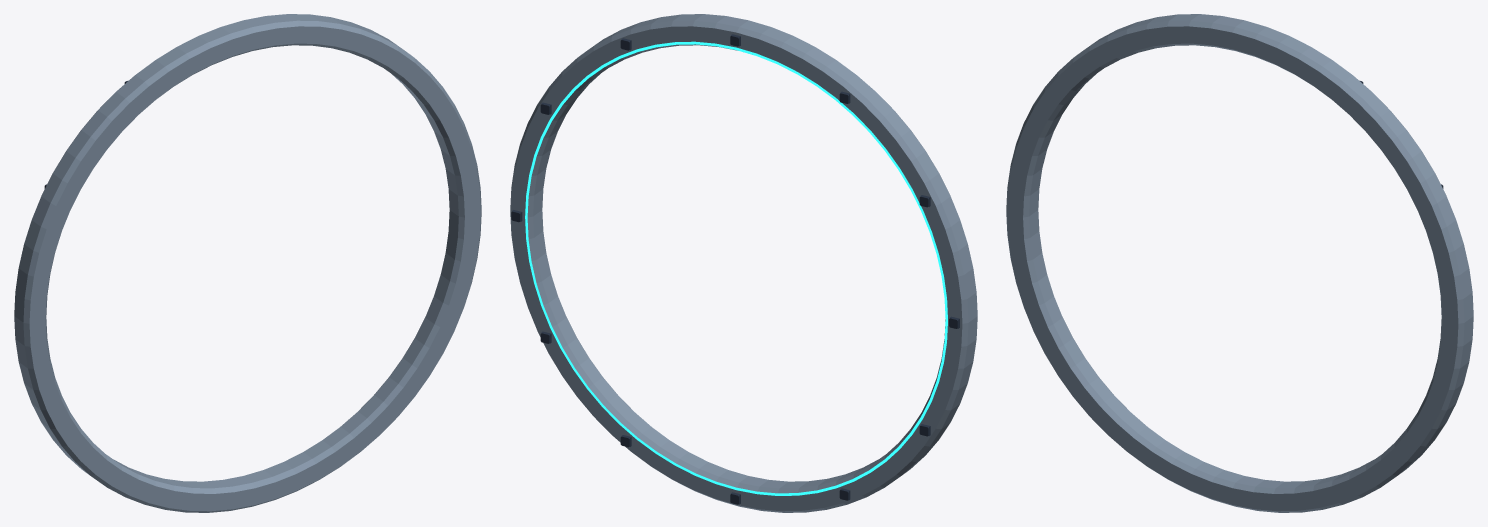
Rendered from orbital_ring.glb.
3 renders of one model, left to right at view 1: azimuth 30°, elevation 25°; view 2: azimuth 150°, elevation 25°; view 3: azimuth 330°, elevation 25°, orthographic.
Visible parts, largest first — view 1: Ring; view 2: Ring; view 3: Ring.
Part boxes in pixels (x1=…): Ring: x1=14, y1=14, x2=481, y2=512; Ring: x1=510, y1=14, x2=977, y2=512; Ring: x1=1006, y1=14, x2=1473, y2=512.
Bounding box in the file's own units: 20 × 20 × 1.26.
